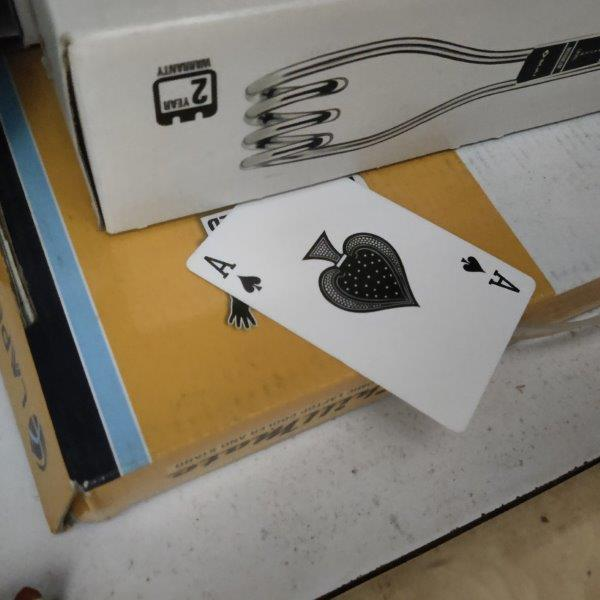Ace of Spades: (186, 177, 536, 432)
